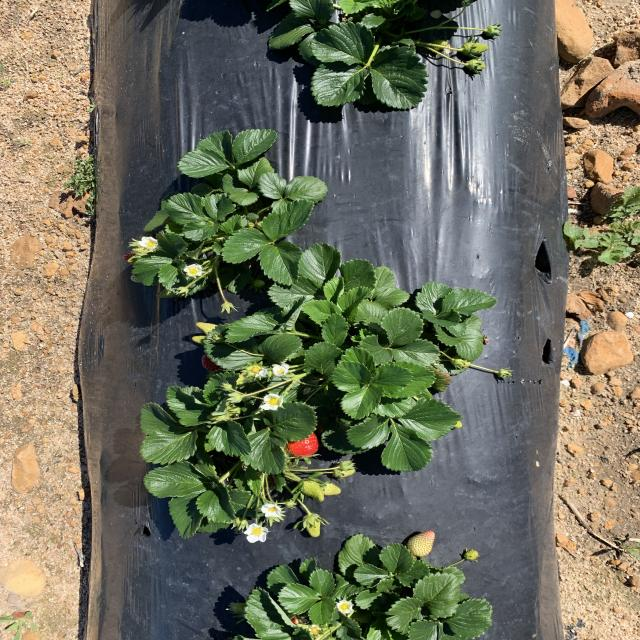unripe: (288, 421, 324, 463), (199, 352, 224, 374)
